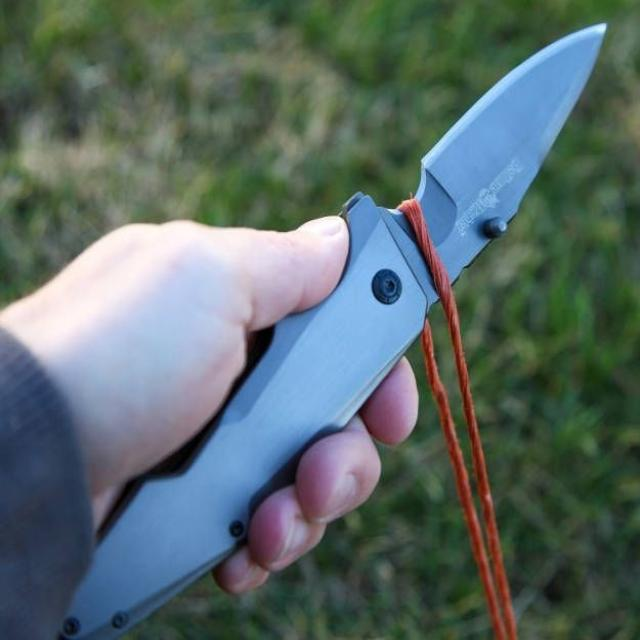knife: (60, 16, 619, 640)
